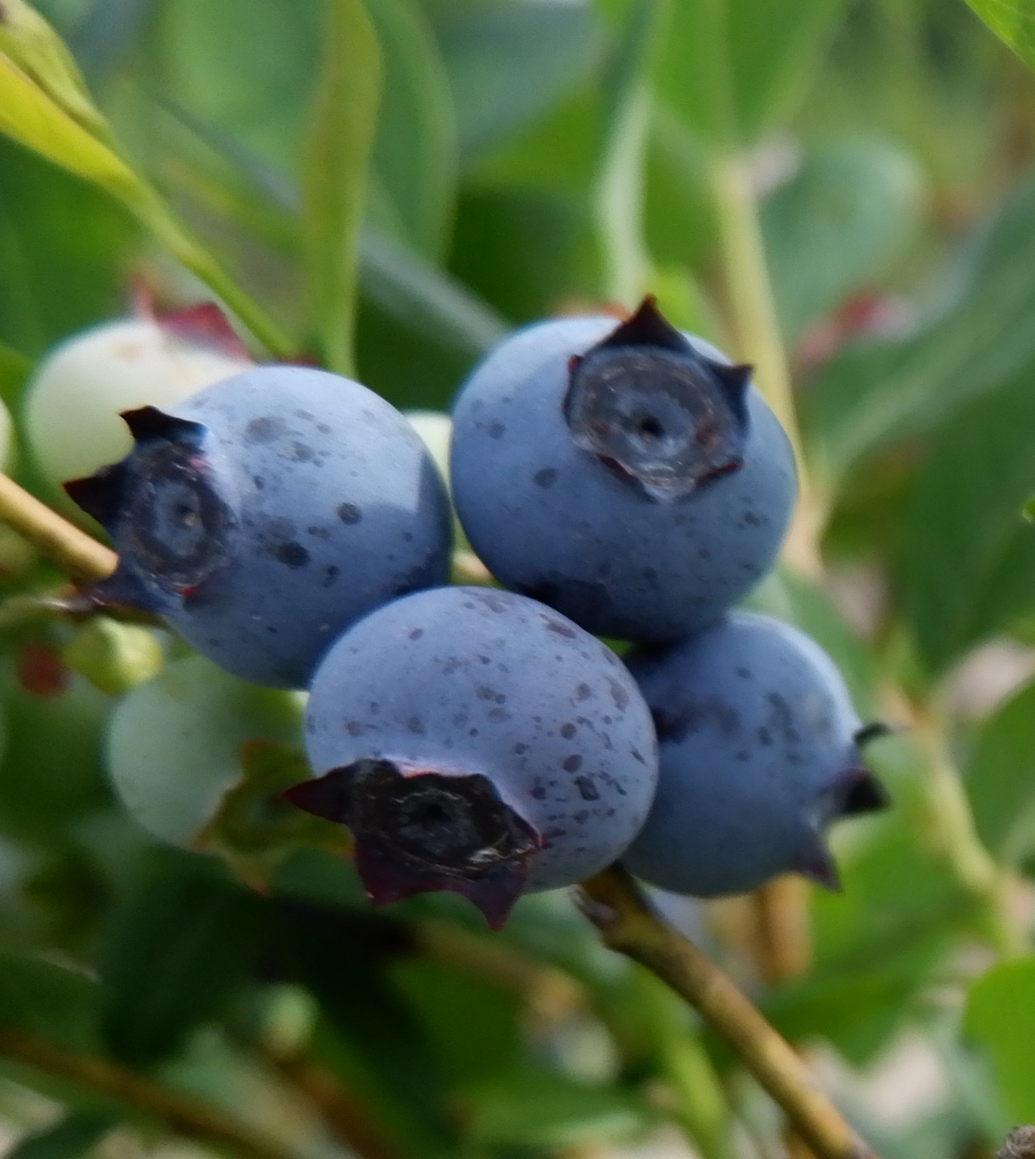Immature: (20, 262, 257, 550), (100, 659, 360, 894)
Mature: (284, 585, 660, 936), (84, 372, 448, 681), (456, 325, 795, 632), (630, 621, 876, 896)
